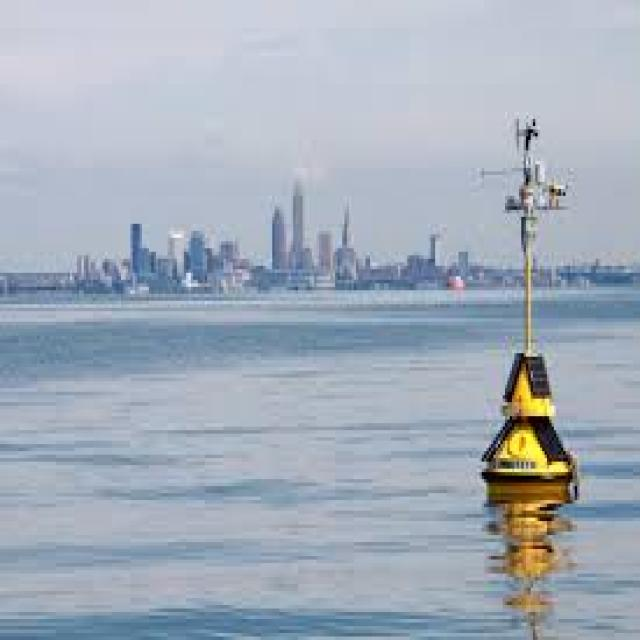2.5 sepcial mark: (474, 93, 587, 509)
